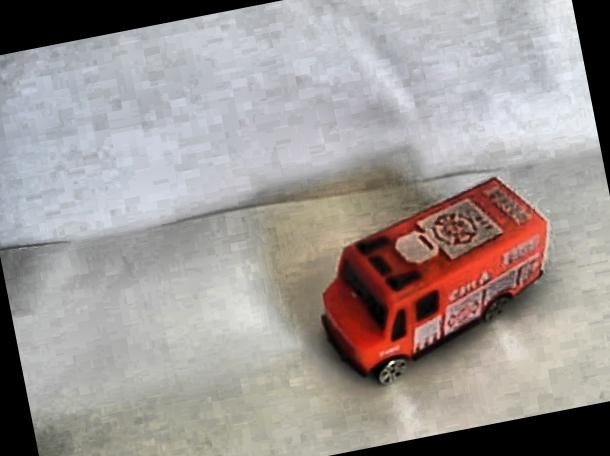fire_truck: (281, 163, 578, 407), (318, 272, 390, 369)
